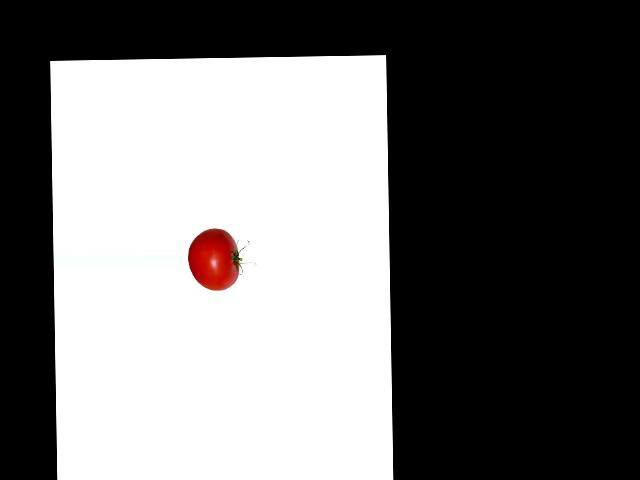tomato: (187, 228, 239, 290)
